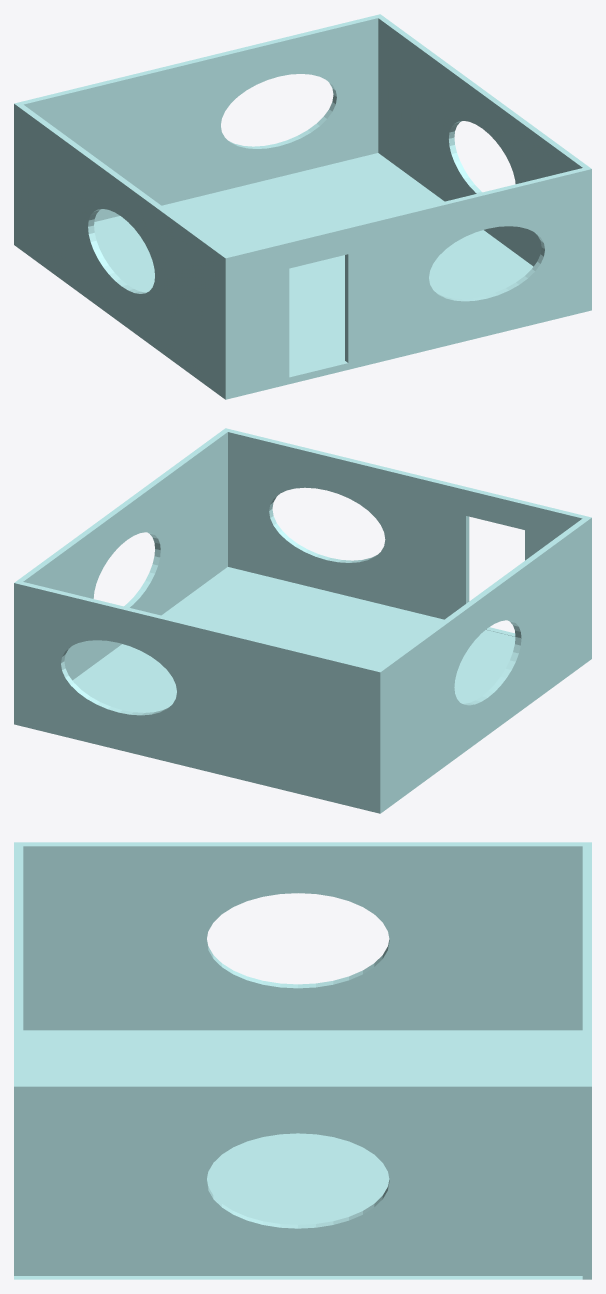
The model's file is simple-classroom.glb.
The picture shows the model from 3 angles, top to bottom: view 1: azimuth 30°, elevation 25°; view 2: azimuth 150°, elevation 25°; view 3: azimuth 270°, elevation 25°; orthographic projection. The views are drawn at different scales.
Parts seen in each view (by area): view 1: Cube.001_0; view 2: Cube.001_0; view 3: Cube.001_0.
Boxes of the visible parts, x1=… form: Cube.001_0: x1=14, y1=14, x2=591, y2=399; Cube.001_0: x1=14, y1=428, x2=591, y2=813; Cube.001_0: x1=14, y1=842, x2=591, y2=1279.
Size of the model in its own units: 12.45 by 4.59 by 12.45.
